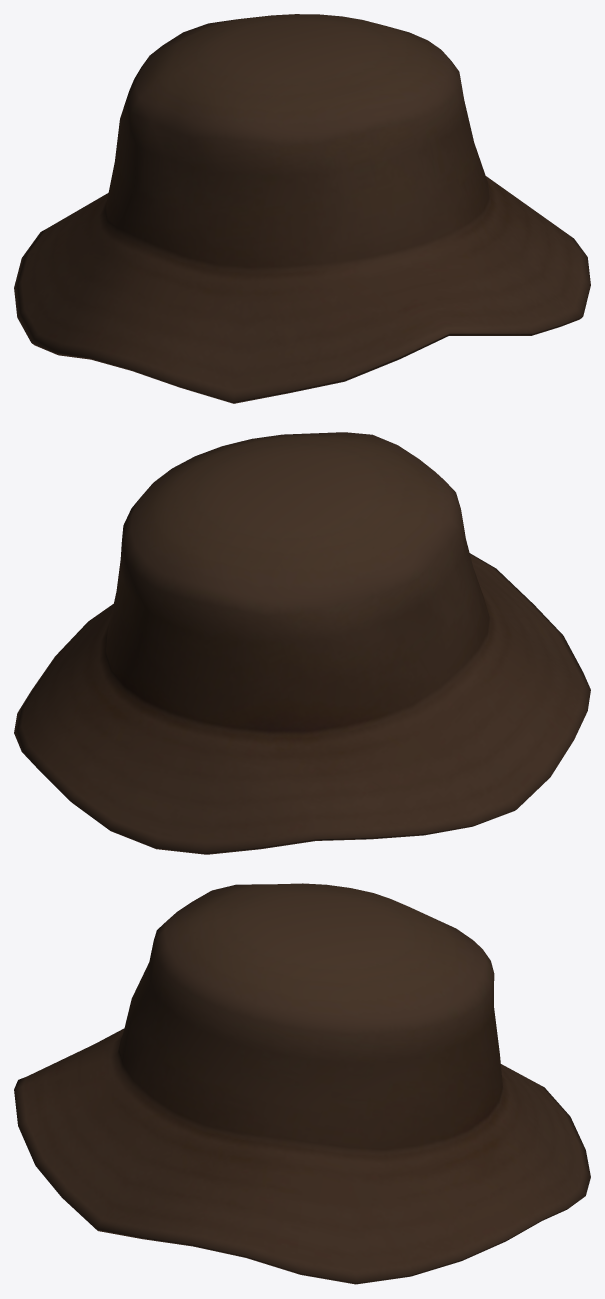
File: FishingHat.FBX
3 renders of one model, top to bottom at view 1: azimuth 30°, elevation 25°; view 2: azimuth 150°, elevation 25°; view 3: azimuth 270°, elevation 25°, orthographic. The views are drawn at different scales.
Visible parts, largest first — view 1: FishingHat; view 2: FishingHat; view 3: FishingHat.
Part boxes in pixels (x1,y1,x2,y2): FishingHat: [14, 14, 590, 403]; FishingHat: [14, 432, 590, 854]; FishingHat: [14, 883, 590, 1284].
Bounding box in the file's own units: 48.83 × 25.38 × 50.47.
Materials: 1 (1 with a texture image).
